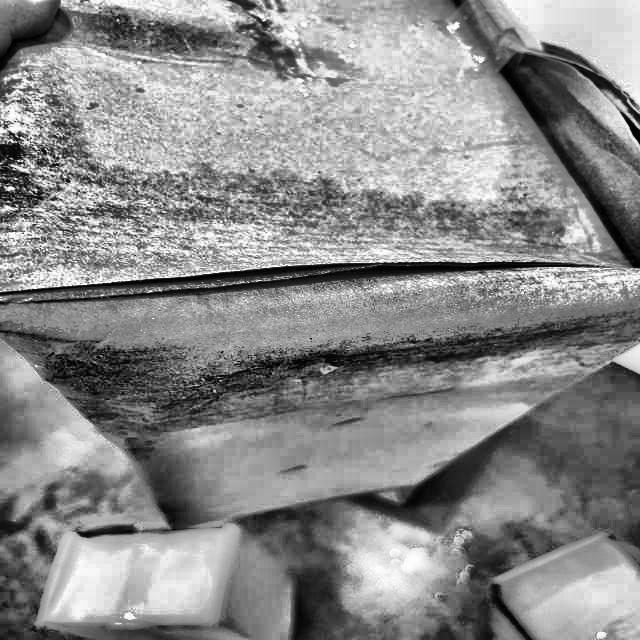box: (1, 0, 639, 541)
wet: (11, 145, 640, 423)
